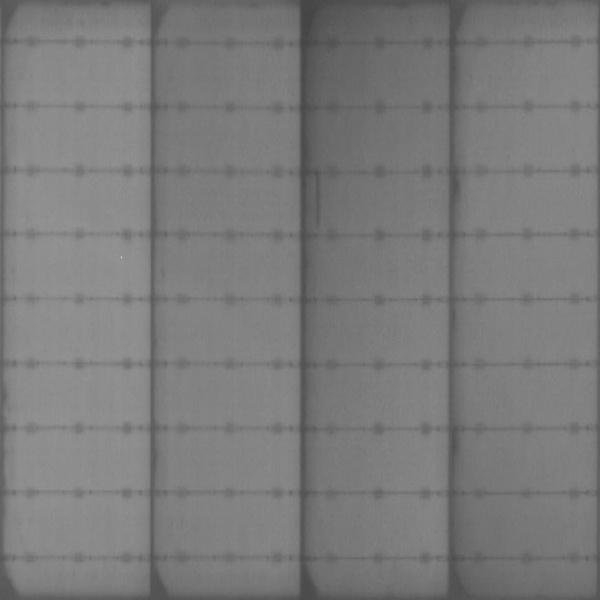scratch: (308, 170, 325, 228)
